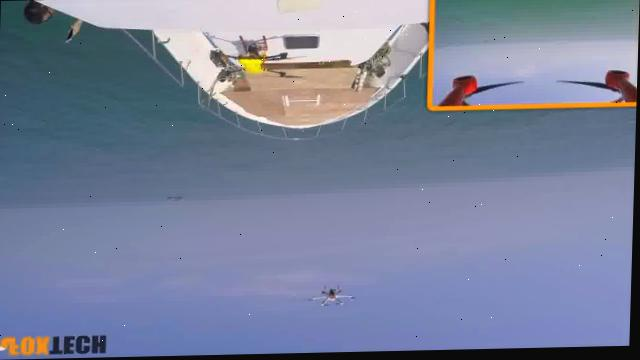drone: (311, 284, 357, 310)
